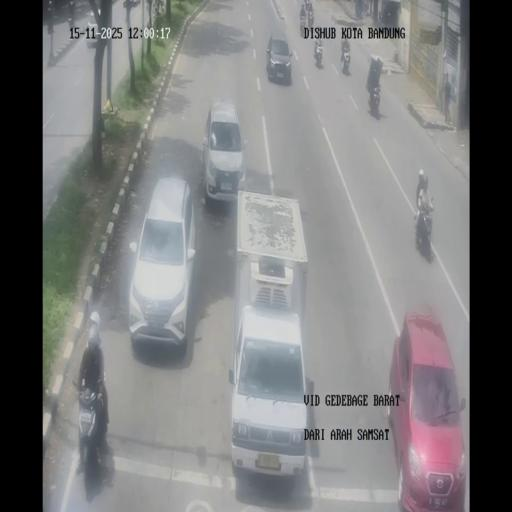3: (230, 192, 311, 478)
car: (388, 312, 467, 508), (127, 177, 196, 353), (202, 97, 247, 205), (266, 33, 292, 85), (86, 8, 98, 47)
truck: (74, 374, 110, 481), (415, 196, 435, 260), (368, 85, 381, 116), (313, 40, 323, 68), (341, 49, 351, 75), (300, 14, 308, 37), (307, 6, 314, 27), (363, 0, 369, 17), (378, 10, 383, 23)
